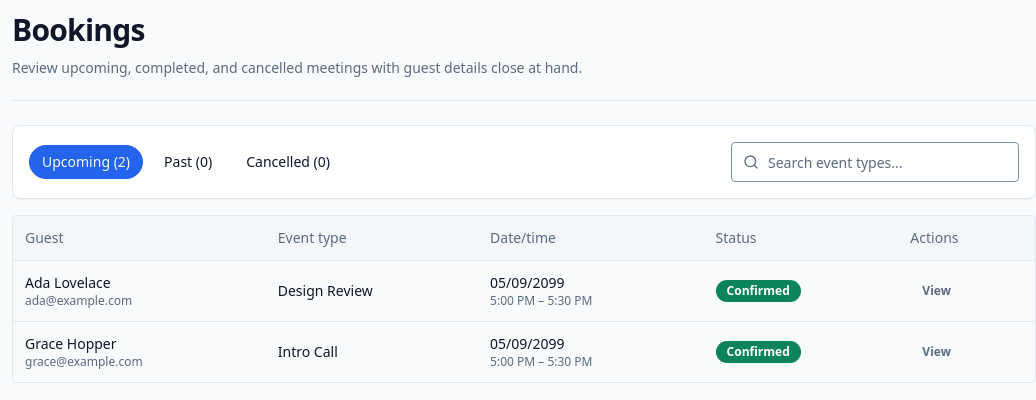
Test: BookingsClient › renders a compact searchable event type filter backed by available booking event types
This screenshot has width=1036, height=400.
Type "Intro" into the field named "Filter by event type" at (875, 162), box [731,142,1019,182]
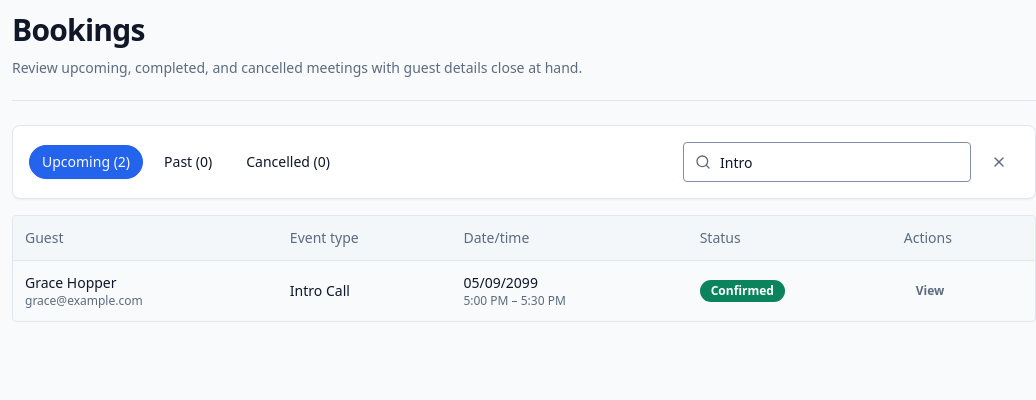
Check: the text "Grace Hopper" is shown, box [25,273,116,292]
Check: the text "Ada Lovelace" is not shown
Check: the button named "Clear event type filter" is shown, box [979,142,1019,182]
